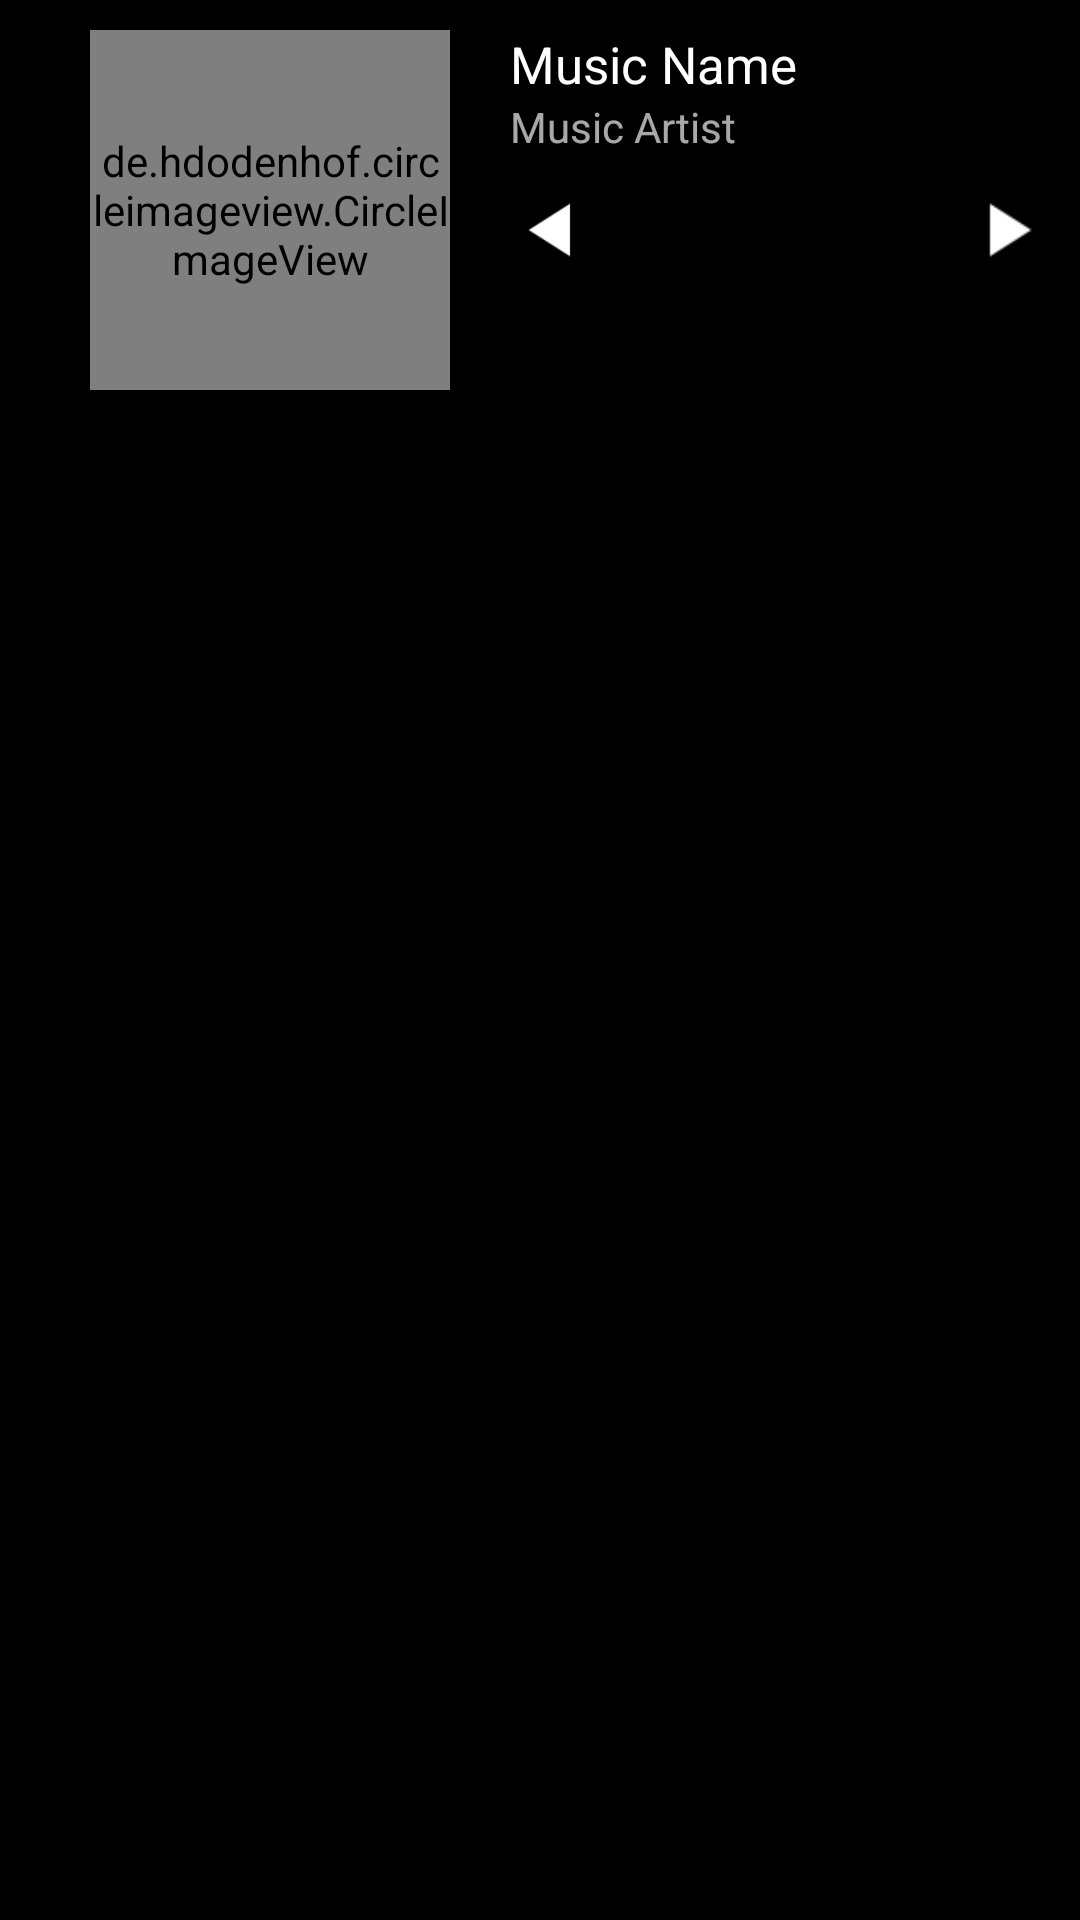

Screen size 1080px x 1920px. Icon name, then its center in pixels as [x,y]:
arrow left: [550,230]
play arrow: [1010,230]
